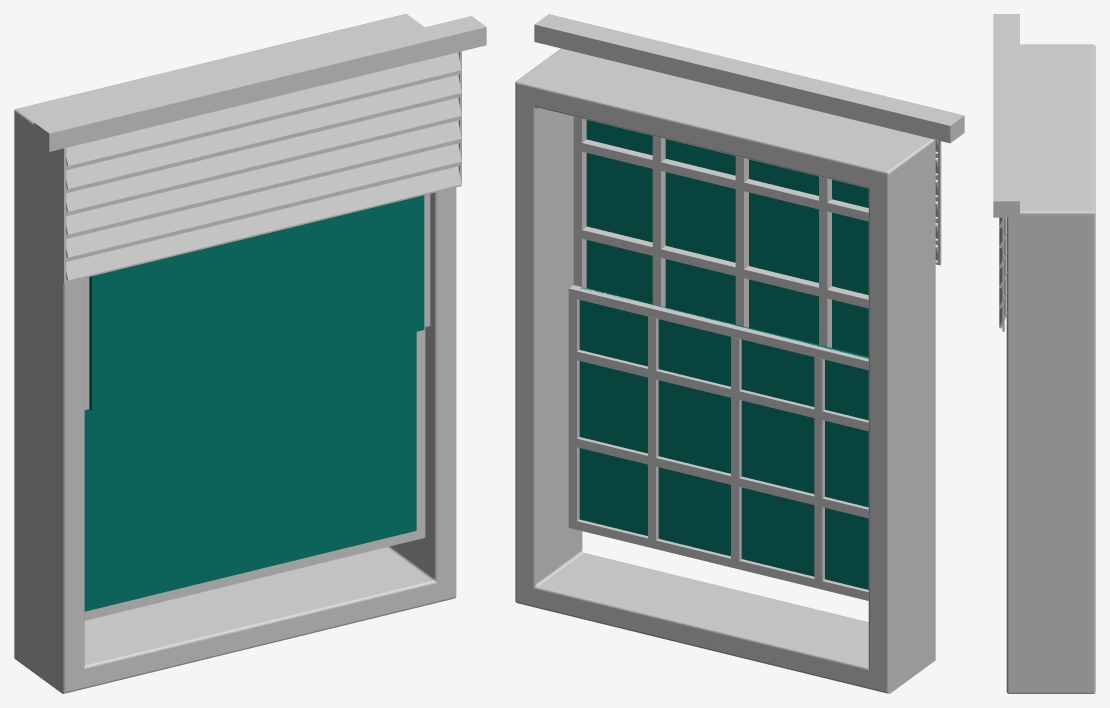
The model's file is window.fbx.
3 renders of one model, left to right at view 1: azimuth 30°, elevation 25°; view 2: azimuth 150°, elevation 25°; view 3: azimuth 270°, elevation 25°, orthographic. The views are drawn at different scales.
Visible parts, largest first — view 1: Marco, Cristales.001, Cubo.004, Cristales, Cubo.003, Hojas.001, Hojas; view 2: Marco, Cristales.001, Cristales, Cuarteros, Cubo.003, Cuarteros.001, Hojas.001, Hojas, Cubo.004; view 3: Marco, Cubo.003, Cubo.004.
Part boxes in pixels (x1,y1,x2,y2): Marco: (14,14,456,693); Cristales.001: (84,331,416,611); Cubo.004: (63,51,461,282); Cristales: (89,195,424,410); Cubo.003: (34,16,486,151); Hojas.001: (84,327,425,620); Hojas: (84,194,430,409); Marco: (515,48,935,693); Cristales.001: (579,287,868,589); Cristales: (586,120,868,356); Cuarteros: (582,136,868,347); Cubo.003: (534,14,964,143); Cuarteros.001: (577,316,868,580); Hojas.001: (568,285,868,600); Hojas: (573,116,586,287); Cubo.004: (935,140,941,265); Marco: (1006,44,1095,693); Cubo.003: (993,14,1019,217); Cubo.004: (999,217,1007,331).
Bounding box in the file's own units: 100 × 125 × 23.
